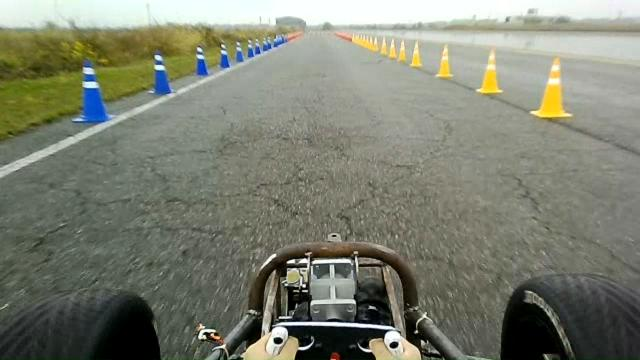blue cone: (71, 58, 114, 124), (147, 50, 173, 95), (194, 44, 210, 76), (218, 42, 230, 69), (235, 40, 244, 62), (247, 39, 254, 58)
yellow cone: (530, 57, 572, 119), (476, 48, 503, 94), (436, 44, 454, 78), (410, 40, 422, 67), (398, 39, 407, 62), (388, 38, 397, 59)
